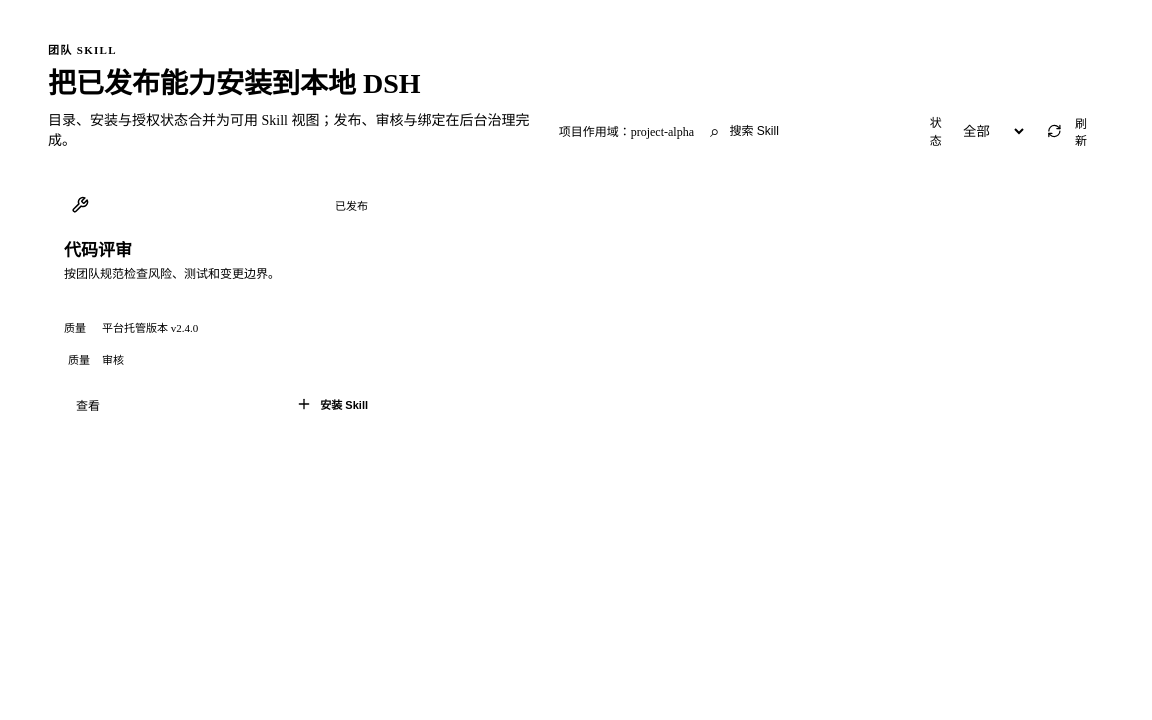
Test case: TeamSkillsView › requires a scope and sends the opaque workspace id for project installation
The width and height of the screenshot is (1152, 720).
Expected: the heading "代码评审" is shown, [64,241,132,260]
Click the button "安装 Skill" at (332, 404), box [288,388,376,420]
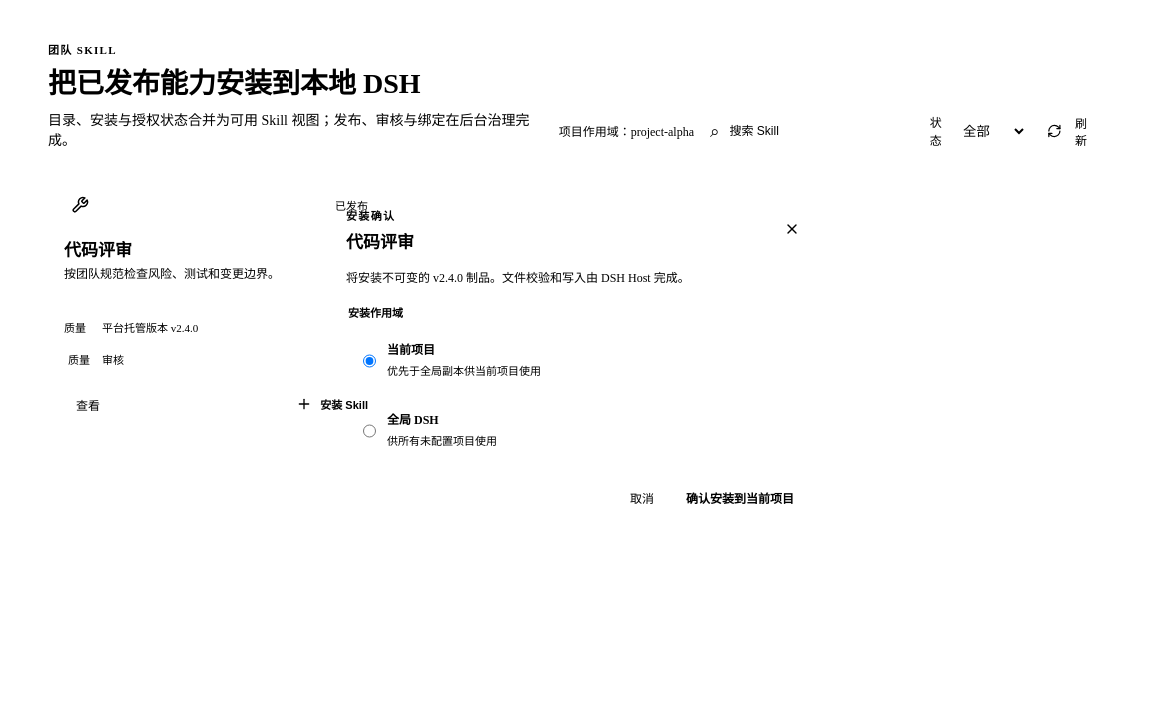
Result: the dialog named "安装代码评审" is shown at [326,186,826,534]
Click the button "确认安装到当前项目" at (740, 497), box [674,480,806,514]
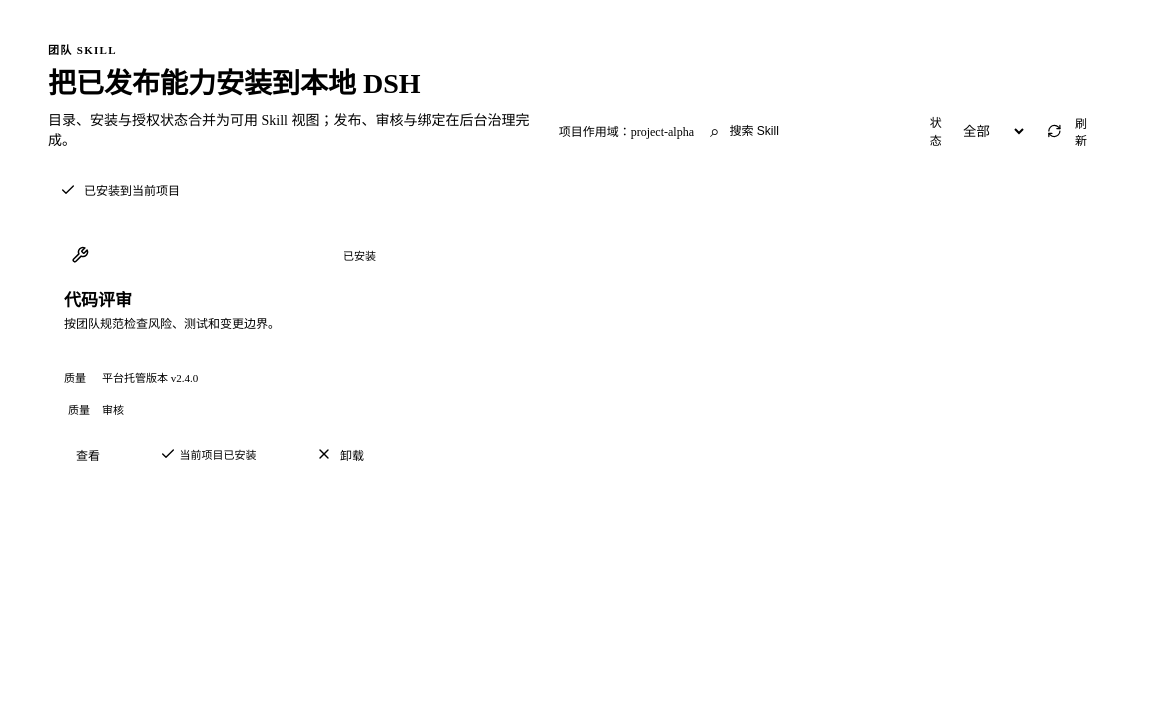
Result: the text "已安装到当前项目" is shown at [84,181,180,199]
